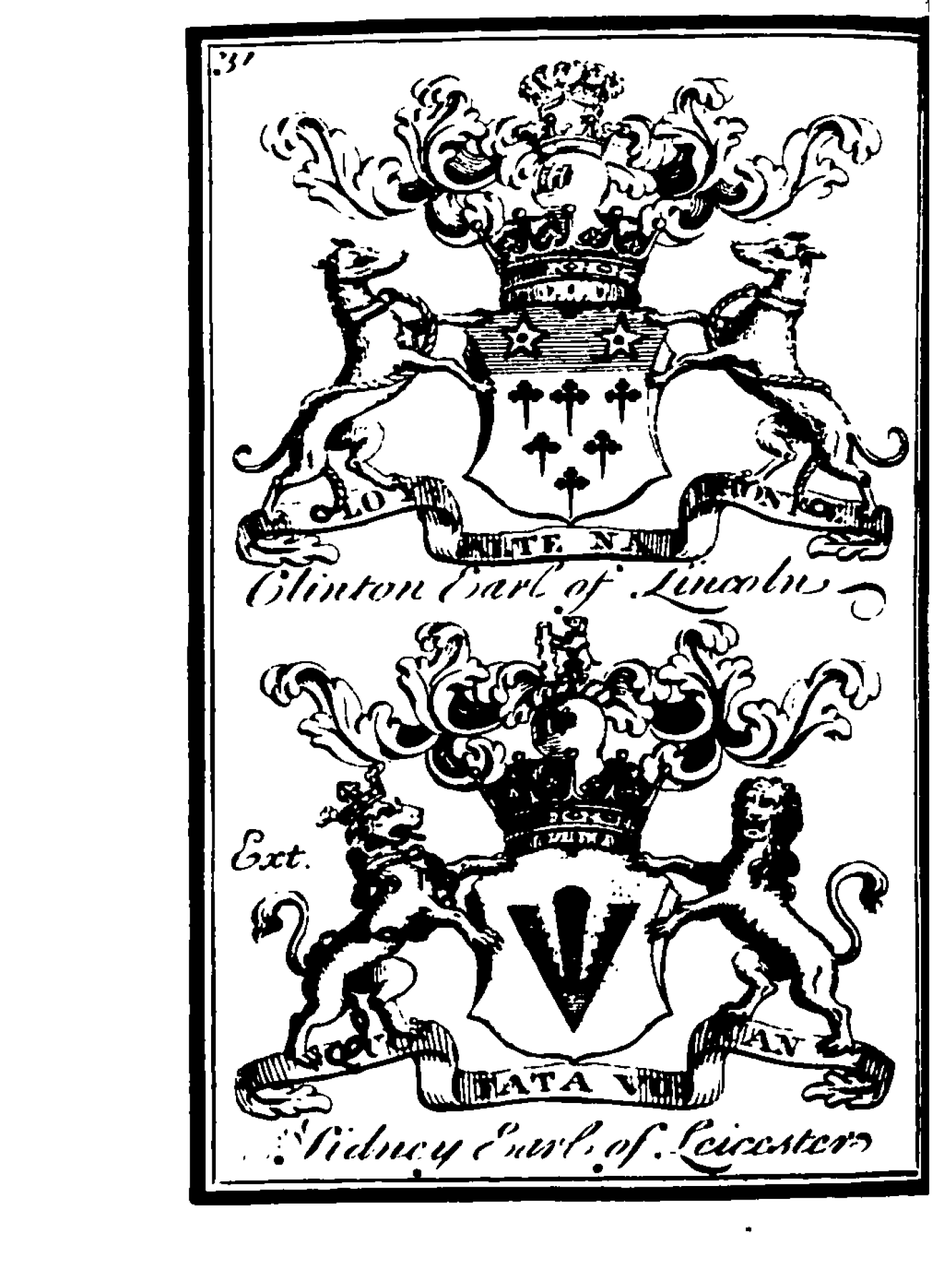coat_of_arms: (219, 47, 909, 617), (225, 612, 896, 1166)
